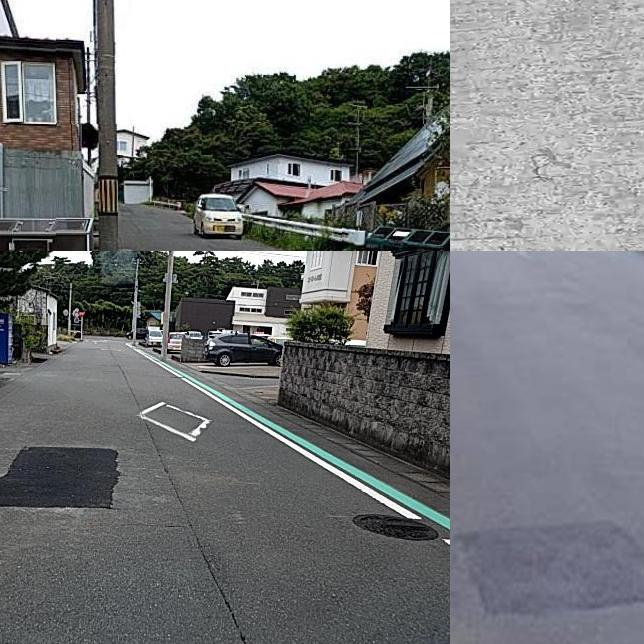Sambungan: (450, 0, 644, 251), (457, 521, 644, 628), (0, 446, 127, 509)
